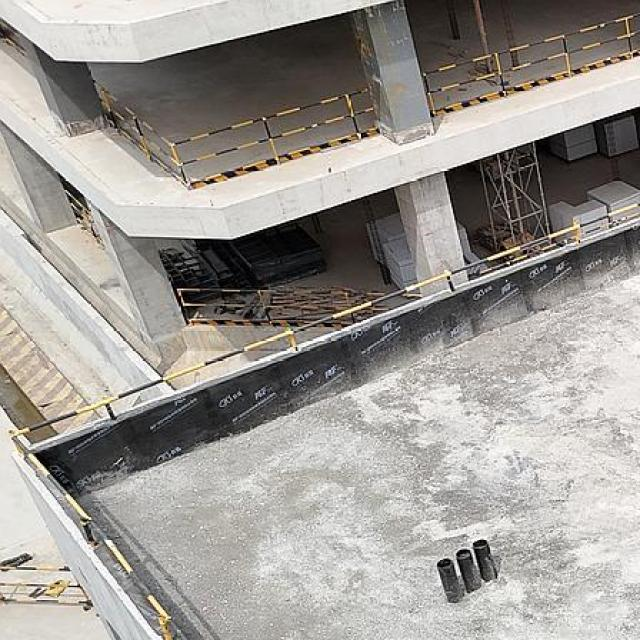edge_guardrail: (7, 201, 640, 640), (92, 79, 375, 184), (421, 11, 640, 116), (480, 211, 640, 276), (175, 287, 388, 323), (63, 188, 97, 238)
